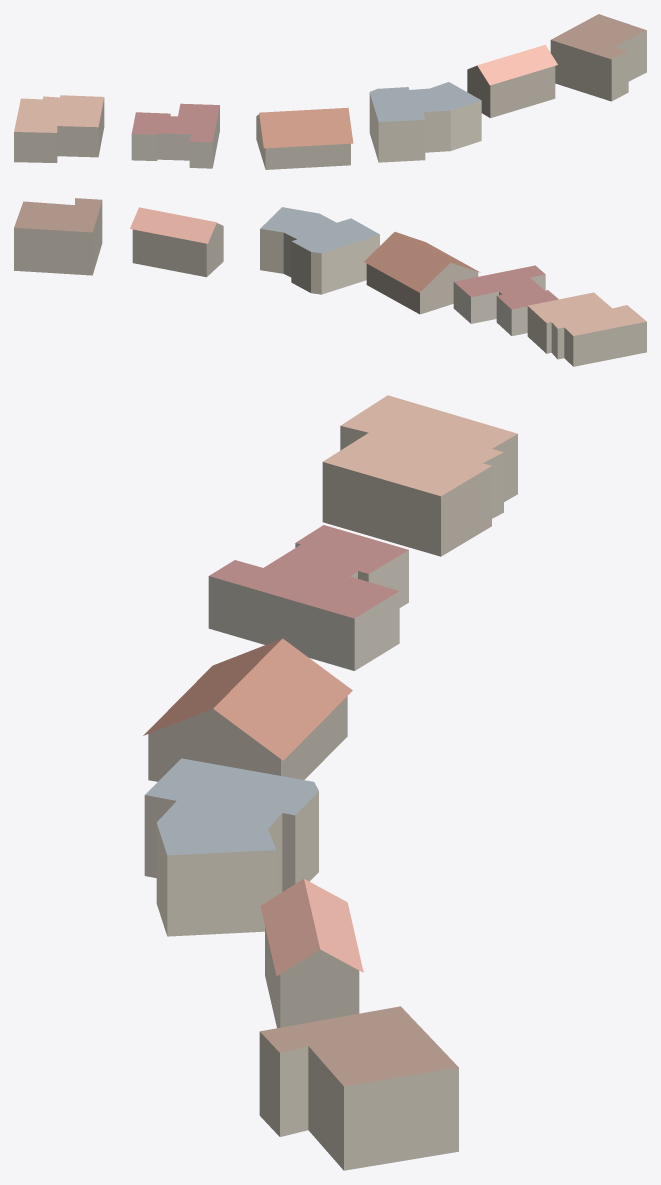
3 views of the same model, one above another, from view 1: azimuth 30°, elevation 25°; view 2: azimuth 150°, elevation 25°; view 3: azimuth 270°, elevation 25° (orthographic). The views are drawn at different scales.
Visible parts, largest first — view 1: tuile; view 2: tuile; view 3: tuile.
Boxes of the visible parts, x1,y1,x2,y2 form: tuile: (14,14,646,169); tuile: (14,198,646,366); tuile: (143,395,517,1170).
Size of the model in its own units: 121 by 15.68 by 31.67.
